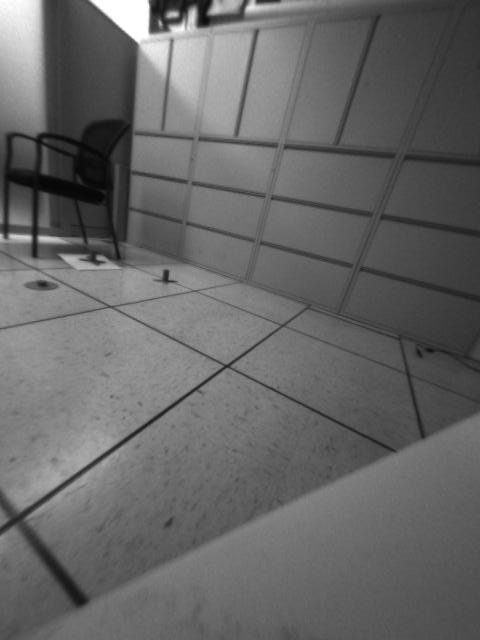X: (149, 267, 178, 286), (78, 250, 107, 267)
